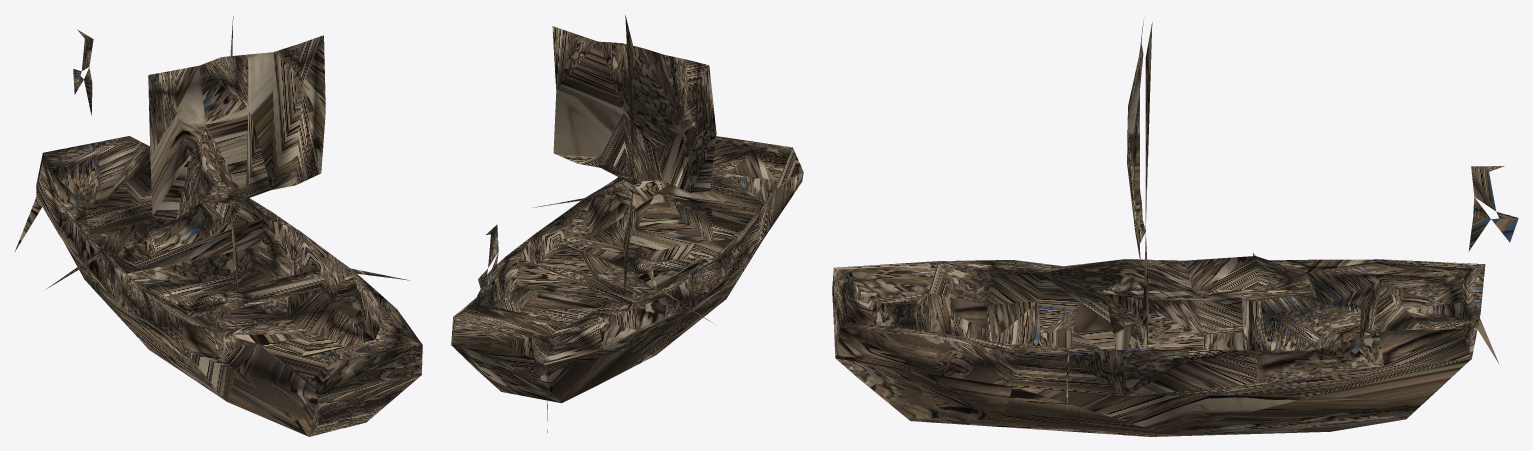
Rendered from hyeopseon_lod2.glb.
The picture shows the model from 3 angles, left to right: view 1: azimuth 30°, elevation 25°; view 2: azimuth 150°, elevation 25°; view 3: azimuth 270°, elevation 25°; orthographic projection. The views are drawn at different scales.
Visible parts, largest first — view 1: tripo_node_e2dd134a-16b5-422e-bf98-9b0521ddb406; view 2: tripo_node_e2dd134a-16b5-422e-bf98-9b0521ddb406; view 3: tripo_node_e2dd134a-16b5-422e-bf98-9b0521ddb406.
Boxes of the visible parts, bbox=[...] form: tripo_node_e2dd134a-16b5-422e-bf98-9b0521ddb406: bbox=[15, 16, 422, 436]; tripo_node_e2dd134a-16b5-422e-bf98-9b0521ddb406: bbox=[451, 15, 803, 432]; tripo_node_e2dd134a-16b5-422e-bf98-9b0521ddb406: bbox=[832, 17, 1518, 436].
Size of the model in its own units: 0.5147 by 0.5827 by 0.9338.
Materials: 1 (1 with a texture image).
